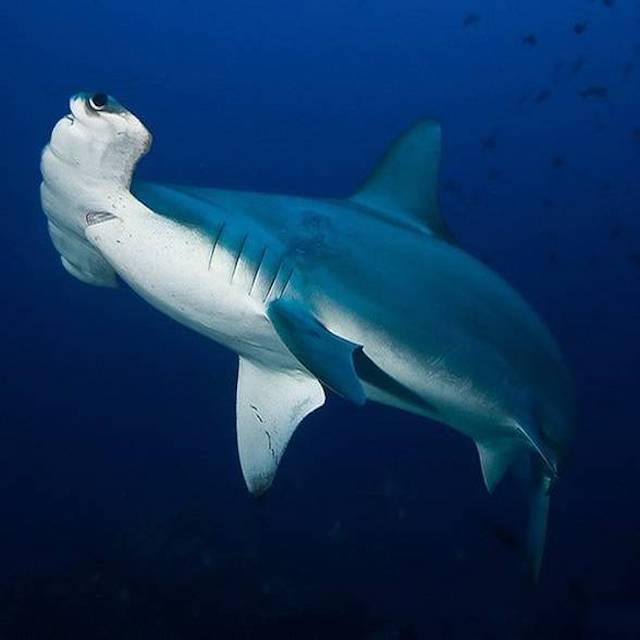hammerhead: (25, 69, 291, 369)
